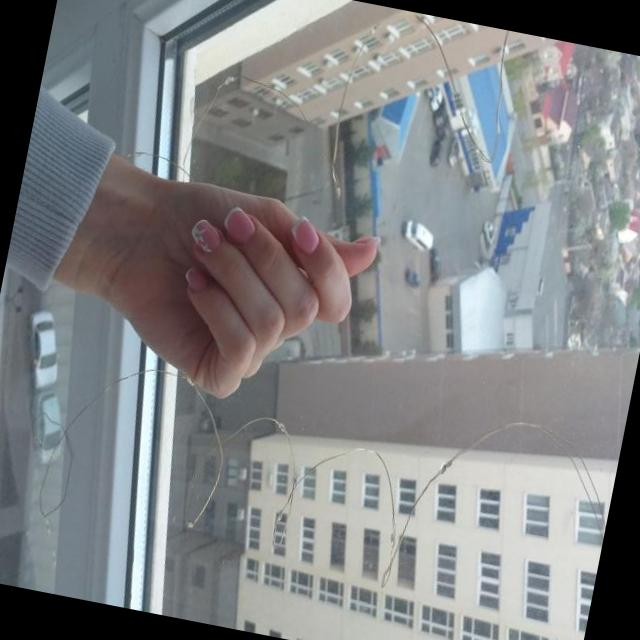Nail: (222, 206, 254, 244), (191, 220, 221, 254), (290, 218, 317, 253), (185, 265, 208, 291), (351, 235, 378, 243)
